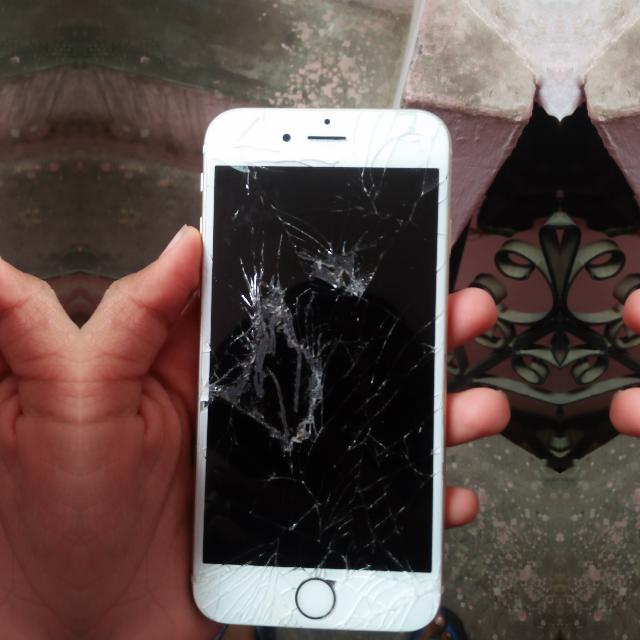phone_screen: (203, 166, 438, 572)
